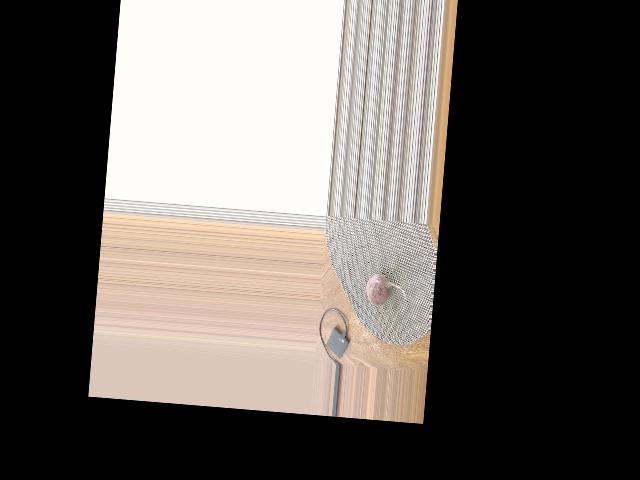beet: (365, 273, 408, 307)
